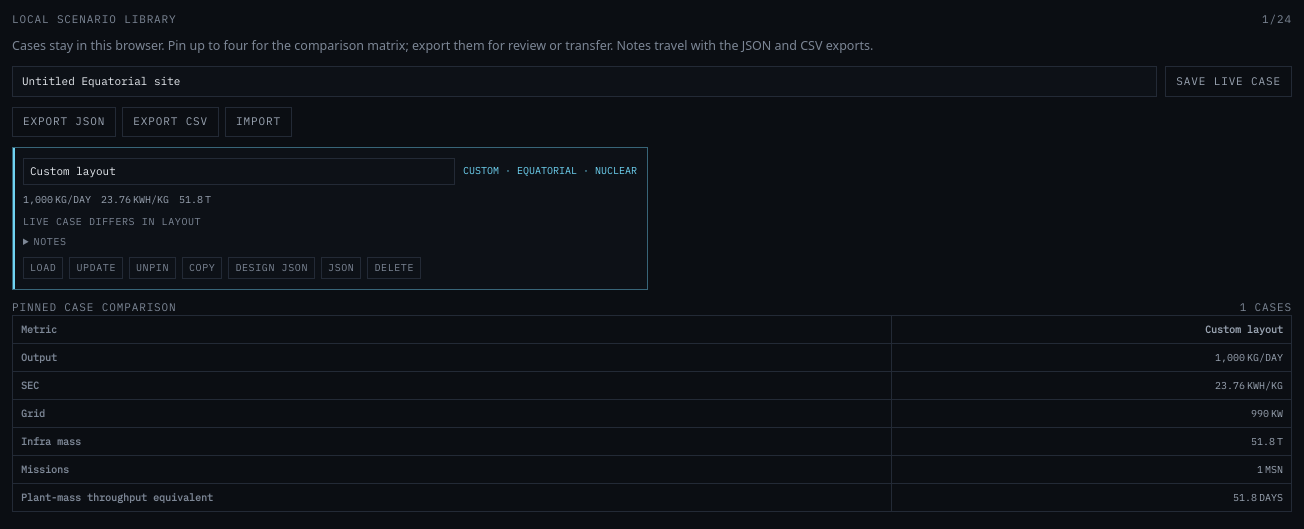
it: custom cases compare with the live design, not its effective inputs › sees a layout change, lets UPDATE save it, and then matches
expect the text "LIVE CASE DIFFERS IN LAYOUT" is shown: met, box x1=23 y1=215 x2=201 y2=228
Click the button "UPDATE" at point(96, 268), box x1=69 y1=257 x2=123 y2=279
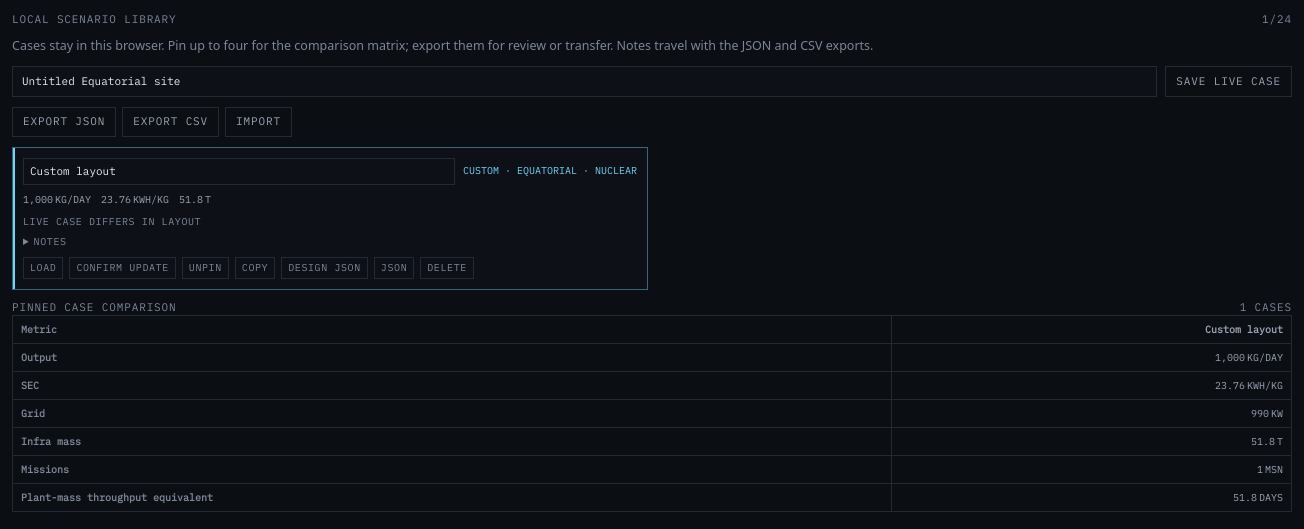
Click the button "CONFIRM UPDATE" at point(123, 268), box x1=69 y1=257 x2=176 y2=279
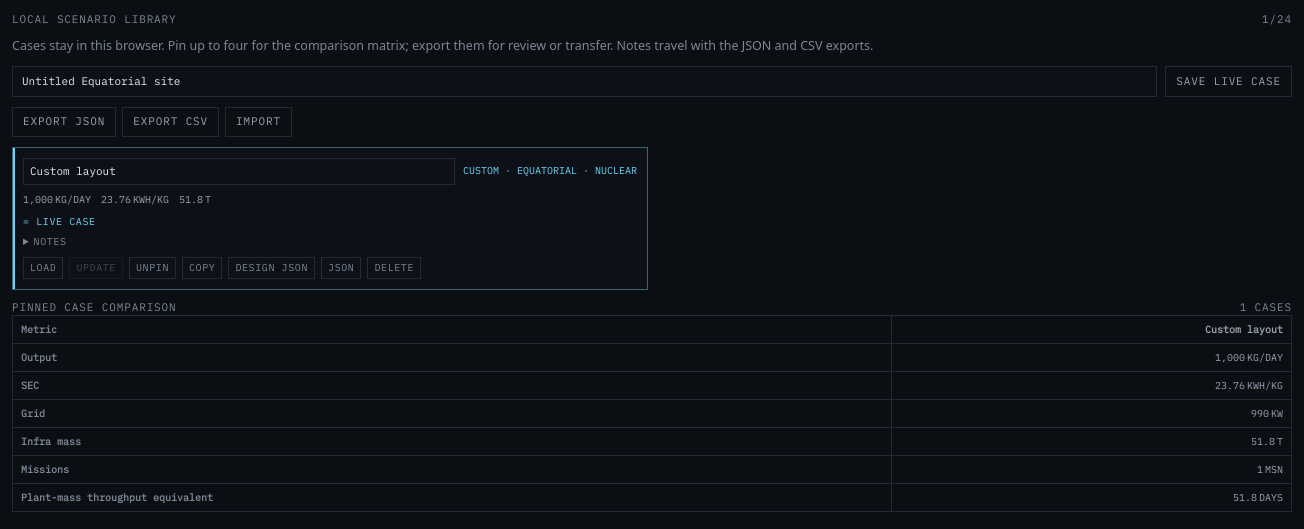
expect the text "= LIVE CASE" is shown: met, box x1=23 y1=215 x2=96 y2=228
